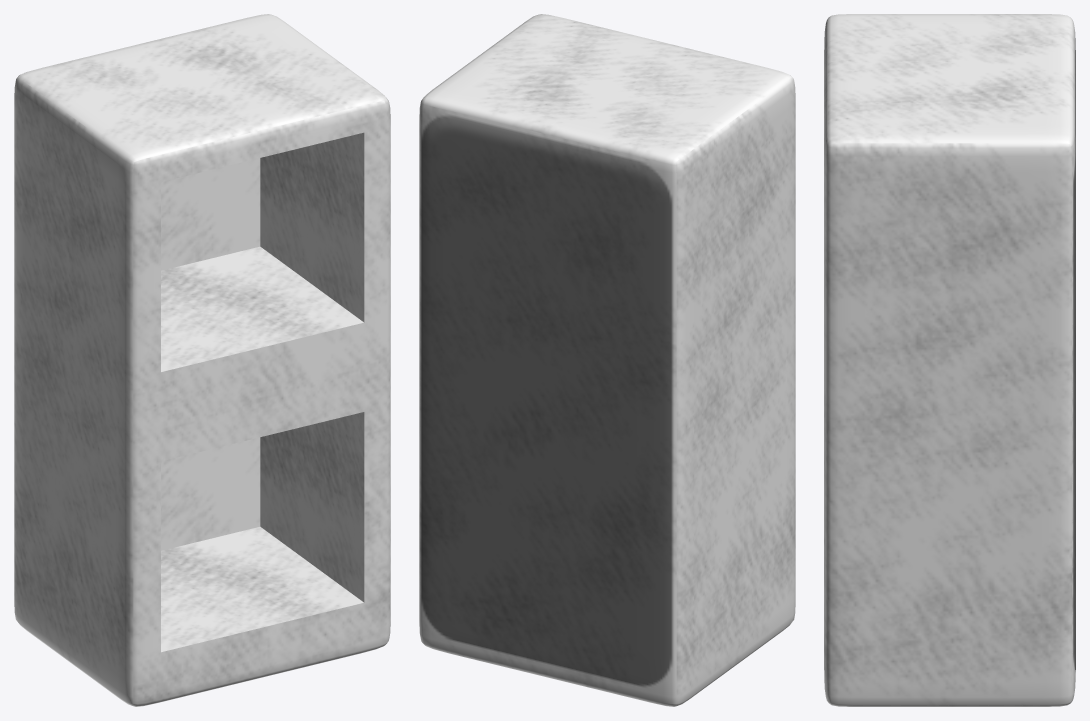
File: reizouko_bese_v2.fbx
3 views of the same model, side by side, from view 1: azimuth 30°, elevation 25°; view 2: azimuth 150°, elevation 25°; view 3: azimuth 270°, elevation 25° (orthographic). The views are drawn at different scales.
Parts seen in each view (by area): view 1: reizouko_base; view 2: reizouko_base; view 3: reizouko_base.
Part boxes in pixels (x1,y1,x2,y2): reizouko_base: [14, 14, 390, 706]; reizouko_base: [419, 14, 795, 706]; reizouko_base: [824, 14, 1075, 706].
Size of the model in its own units: 250 by 500 by 200.
